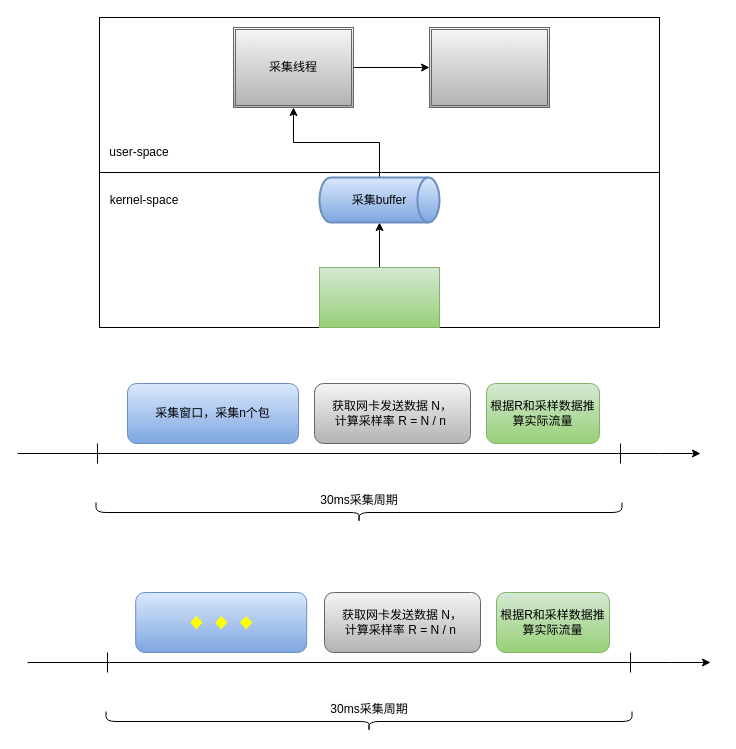
The diagram is 736 pixels wide and 749 high, and some of its shapes have lost their labels. Here are the shapes that lost their labels. From the top down, the centre of each, then its label:
At pixel 489 67: "上报线程".
At pixel 379 297: "NIC".
At pixel 220 622: "采集窗口，每隔R个报文采集一个报文".
